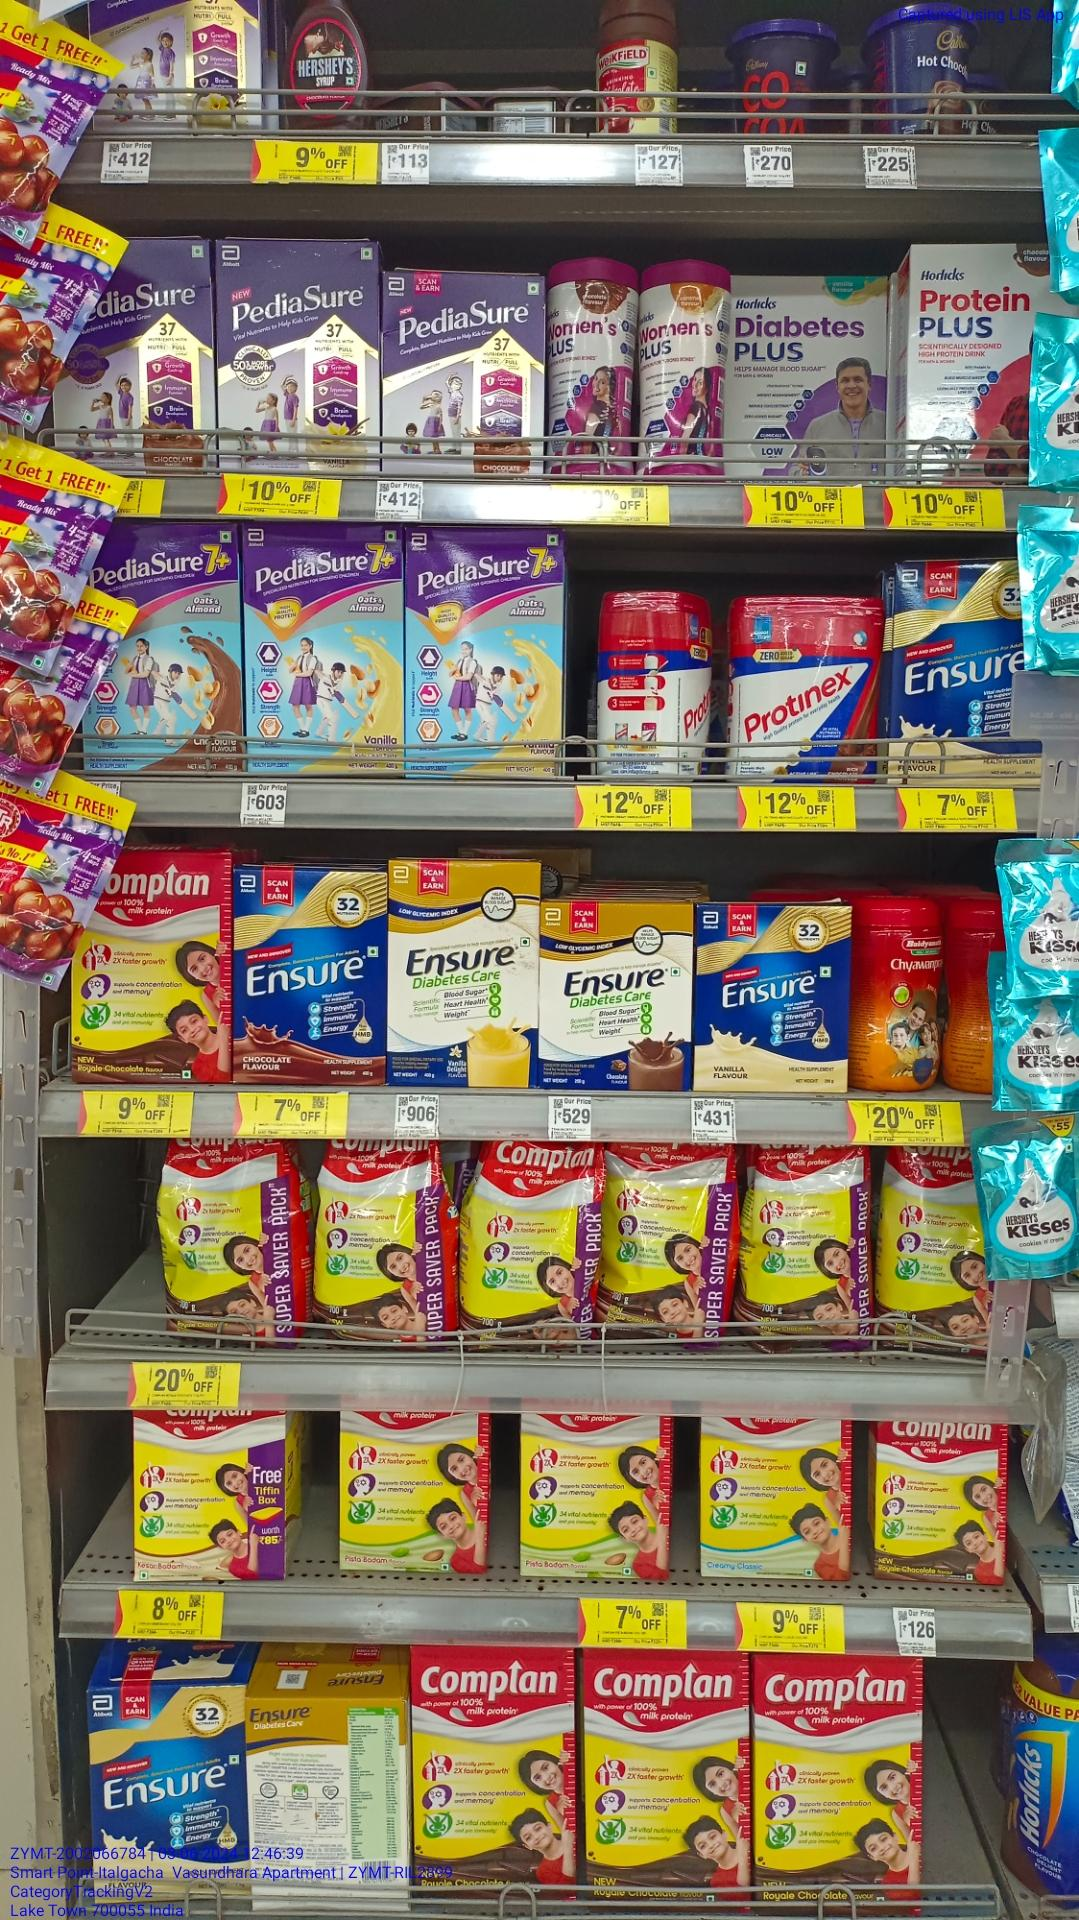COMPLAN_CREAMY_CLASSIC_500_G_PACK: (700, 1407, 847, 1585)
COMPLAN_PISTA_BADAM_500_GMS_PACK: (336, 1394, 488, 1573), (522, 1400, 662, 1580)
COMPLAN_RC_POUCH_700_GMS_12: (162, 1137, 302, 1348), (317, 1142, 454, 1346), (462, 1149, 599, 1346), (744, 1149, 873, 1350), (601, 1146, 733, 1340)
ENSURE_VANILLA_400_G_PACK: (96, 1688, 251, 1899), (699, 906, 849, 1095)
PEDIASURE_CHOCOLATE_500_G_PACK: (384, 270, 541, 476)
PEDIASURE_VANILLA_500_G_PACK: (215, 244, 376, 472)
PROTINEX_CHOCOLATE_400_G_JAR: (727, 595, 882, 777)
